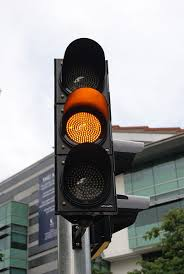amber: (52, 53, 119, 218), (60, 60, 112, 203)
